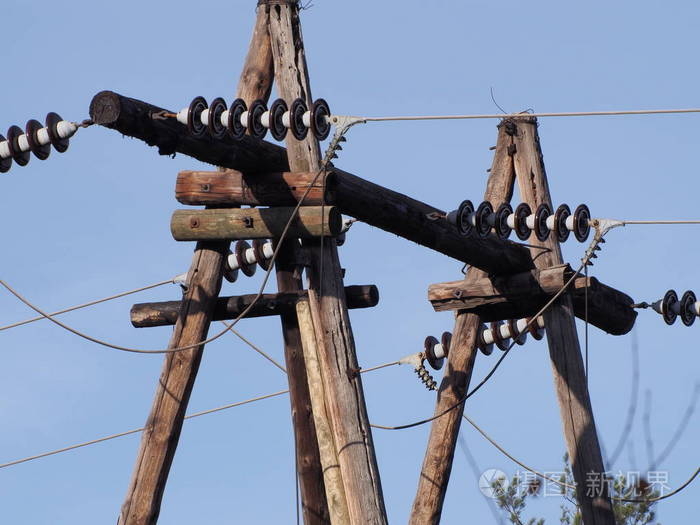insulator: (184, 92, 334, 143), (455, 195, 591, 244), (423, 319, 544, 370), (1, 108, 70, 177), (219, 239, 272, 286), (662, 284, 700, 332)
